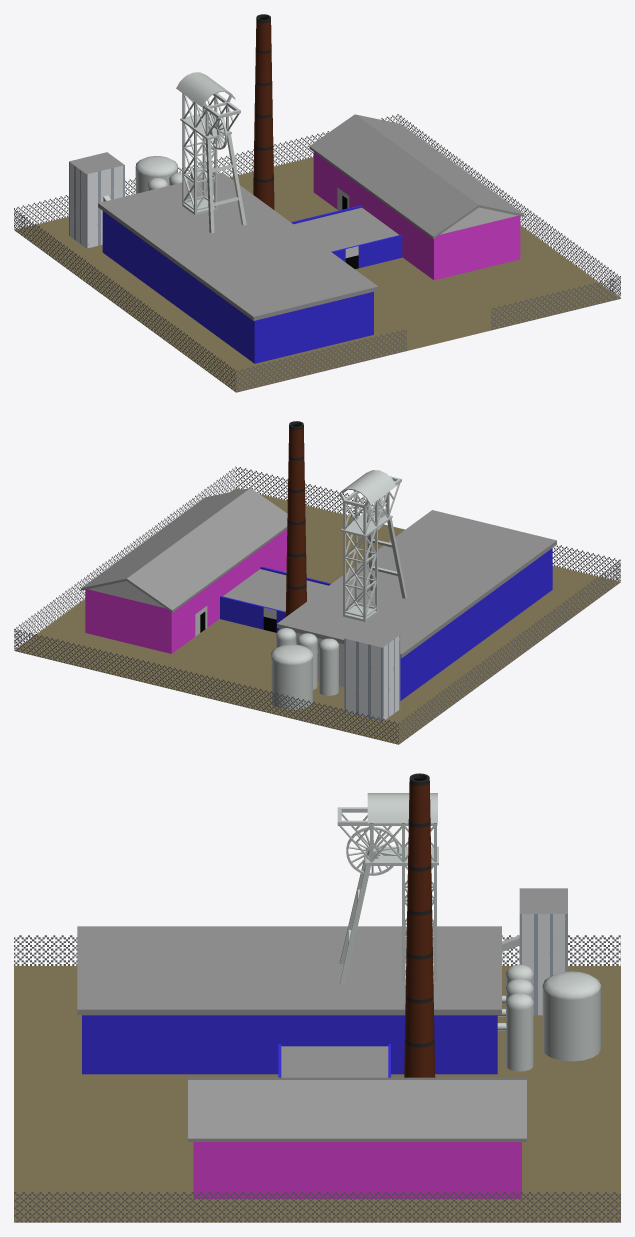
File: SilverMine.fbx
3 renders of one model, top to bottom at view 1: azimuth 30°, elevation 25°; view 2: azimuth 150°, elevation 25°; view 3: azimuth 270°, elevation 25°, orthographic. The views are drawn at different scales.
Visible parts, largest first — view 1: SilverMine; view 2: SilverMine; view 3: SilverMine.
Boxes of the visible parts, x1,y1,x2,y2 form: SilverMine: (14, 14, 620, 392); SilverMine: (14, 421, 620, 744); SilverMine: (14, 773, 620, 1222).
Size of the model in its own units: 1800 by 1000 by 1800.
